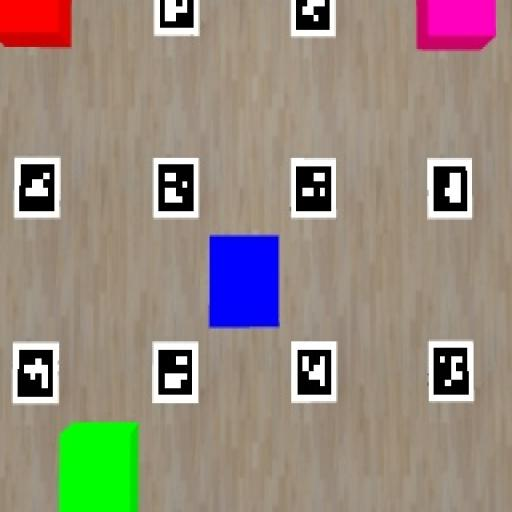car: (58, 423, 139, 511), (208, 235, 279, 328), (416, 0, 495, 51)
fire: (0, 0, 71, 49)
